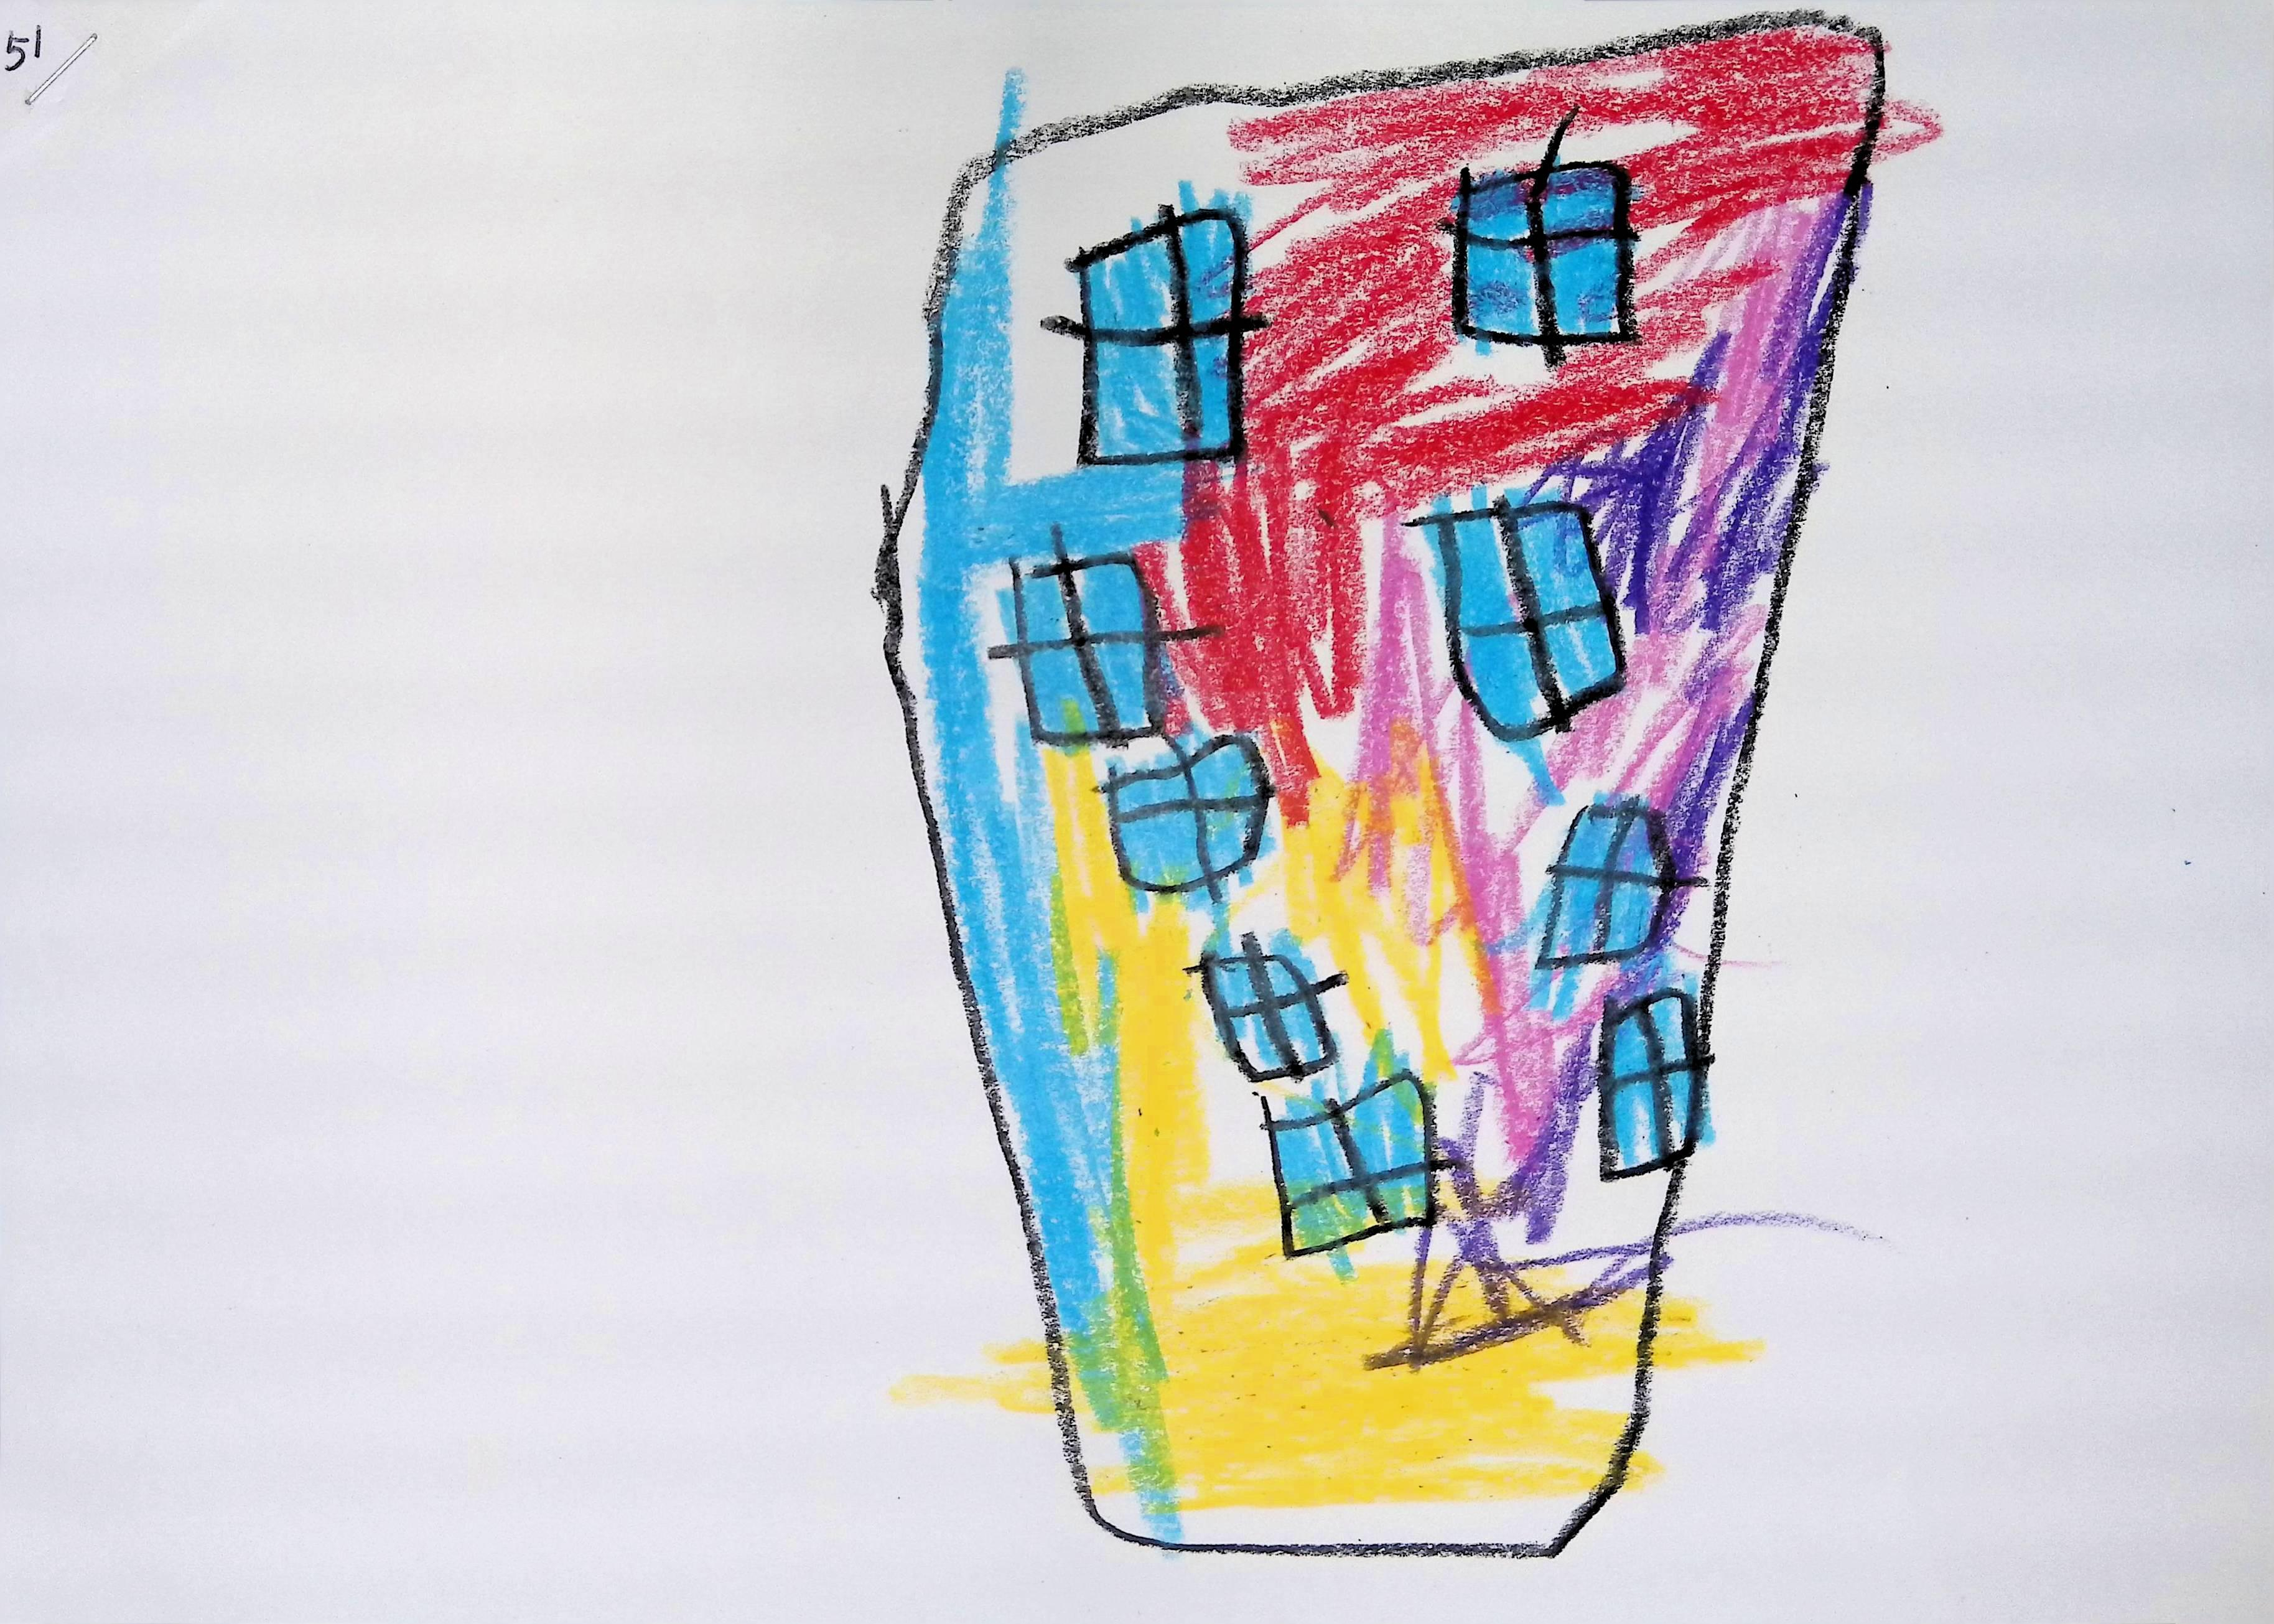house: (882, 12, 1896, 1557)
wall: (882, 14, 1898, 1557)
window: (1427, 494, 1627, 740), (1068, 202, 1251, 462), (1445, 155, 1640, 343), (1262, 1070, 1439, 1258), (1012, 552, 1160, 743), (1100, 735, 1272, 891), (1538, 798, 1685, 968), (1601, 988, 1713, 1179), (1186, 946, 1336, 1083)
